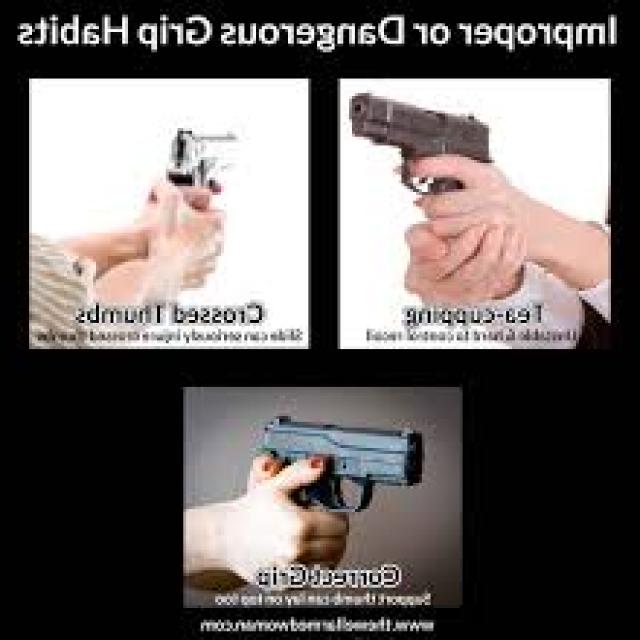gun: (220, 399, 449, 569), (342, 82, 530, 287), (101, 88, 283, 273)
